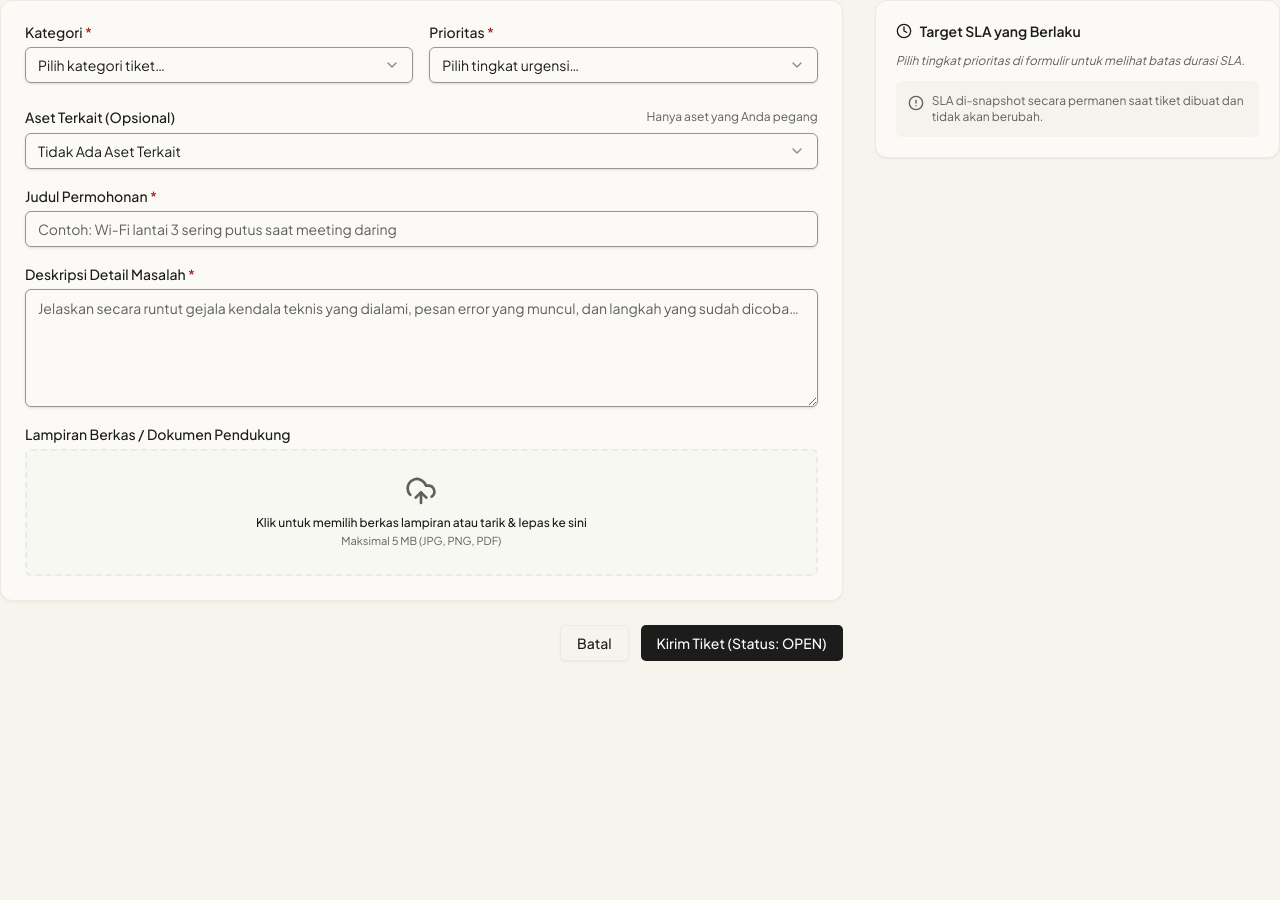
Test case: TicketForm Component › validates empty inputs and shows error messages
The image size is (1280, 900).
Click the button "Kirim Tiket (Status: OPEN)" at (742, 642), box [640, 624, 843, 660]
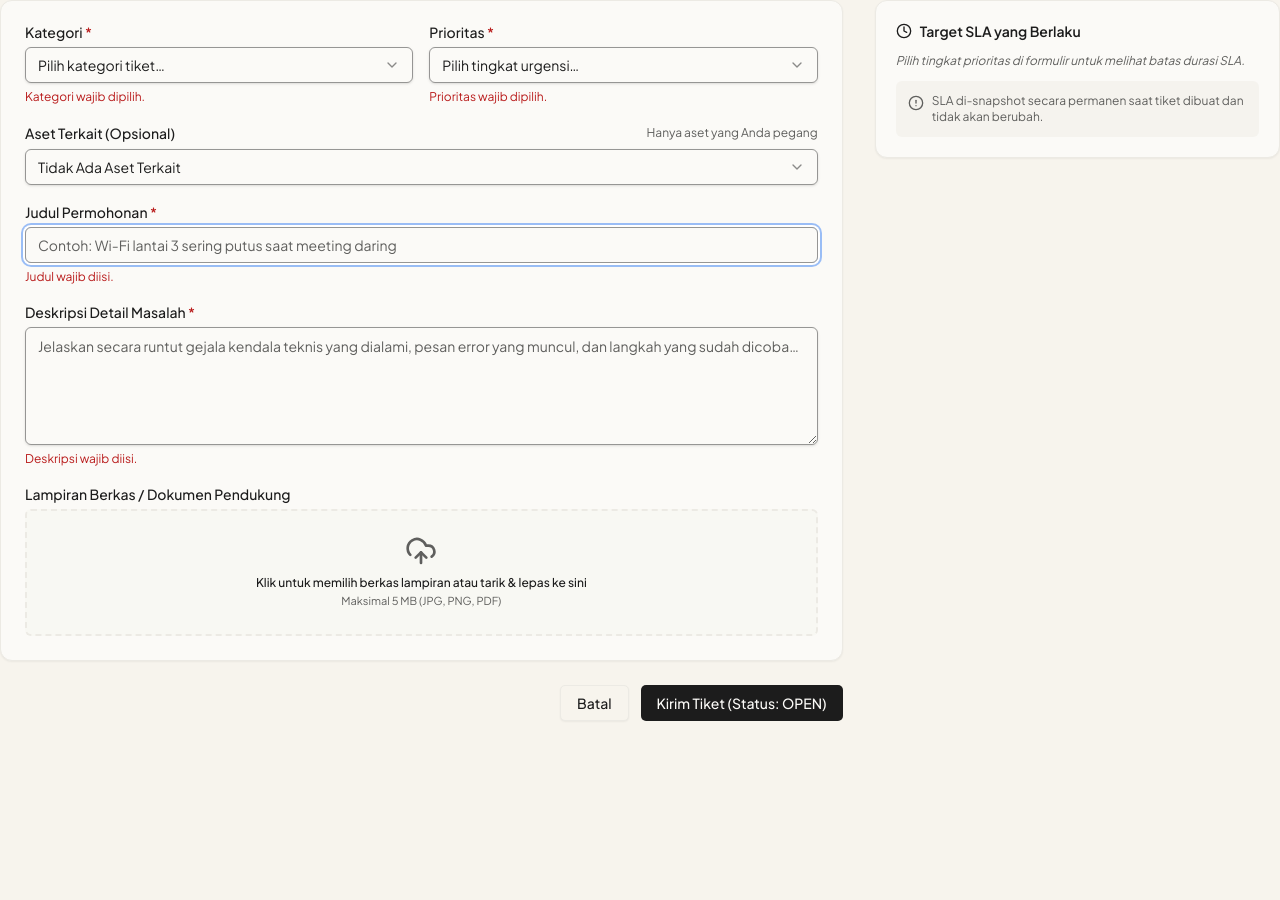
Now the text "Kategori wajib dipilih." is shown, box [25, 89, 145, 104]
Now the text "Prioritas wajib dipilih." is shown, box [429, 89, 547, 104]
Now the text "Judul wajib diisi." is shown, box [25, 269, 114, 284]
